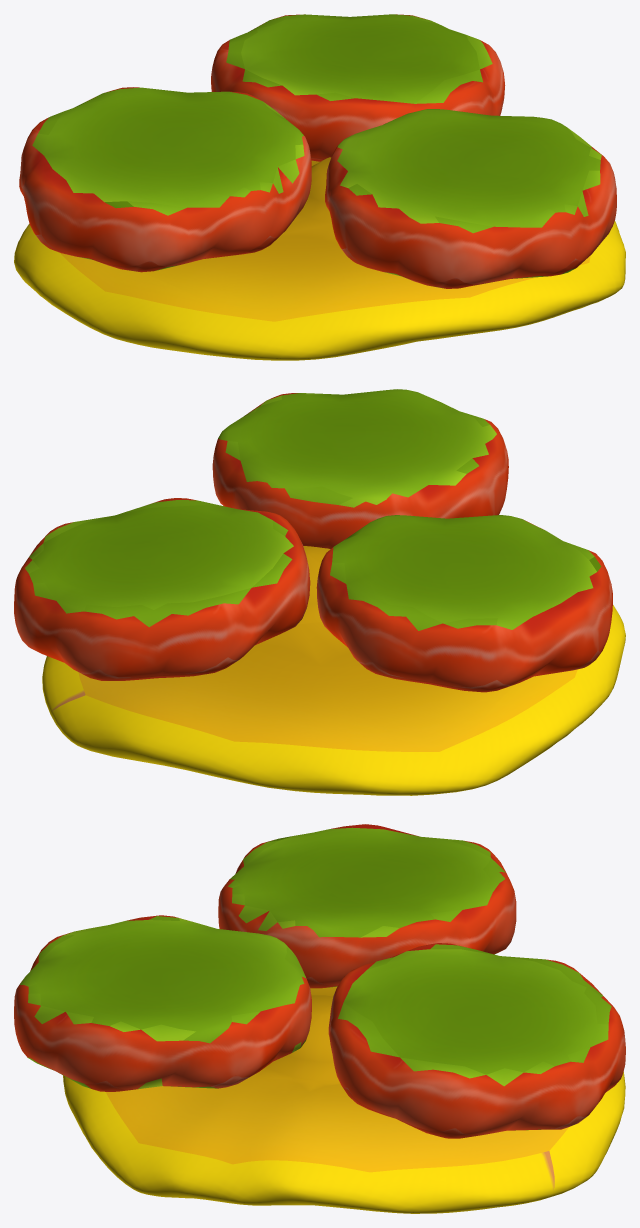
File: Hambuger2.FBX
3 views of the same model, one above another, from view 1: azimuth 30°, elevation 25°; view 2: azimuth 150°, elevation 25°; view 3: azimuth 270°, elevation 25° (orthographic).
Parts seen in each view (by area): view 1: Hambuger.006, Hambuger.008; view 2: Hambuger.006, Hambuger.008; view 3: Hambuger.006, Hambuger.008.
Part boxes in pixels (x1,y1,x2,y2): Hambuger.006: [19, 14, 616, 288]; Hambuger.008: [14, 157, 625, 360]; Hambuger.006: [14, 389, 612, 692]; Hambuger.008: [42, 546, 625, 795]; Hambuger.006: [14, 824, 625, 1138]; Hambuger.008: [63, 986, 625, 1213].
Bounding box in the file's own units: 27.5 × 8.76 × 27.19.
